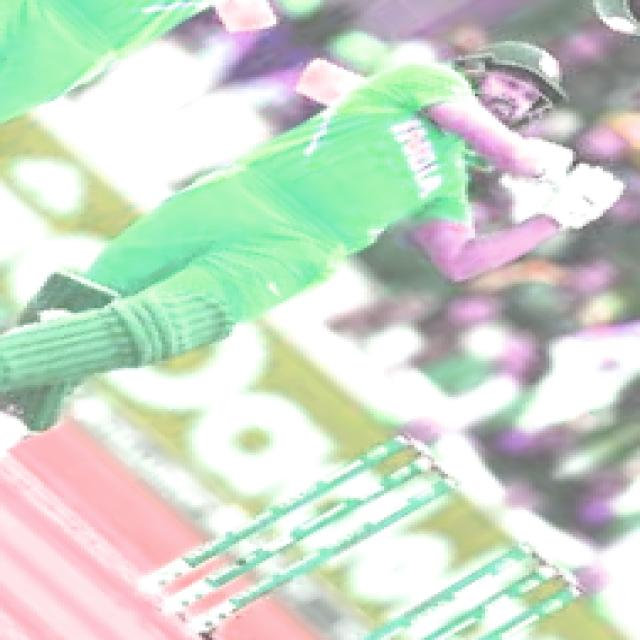toe: (286, 53, 344, 94)
